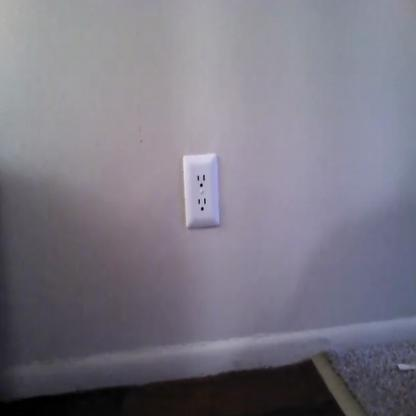OUTLET: (182, 152, 220, 228)
